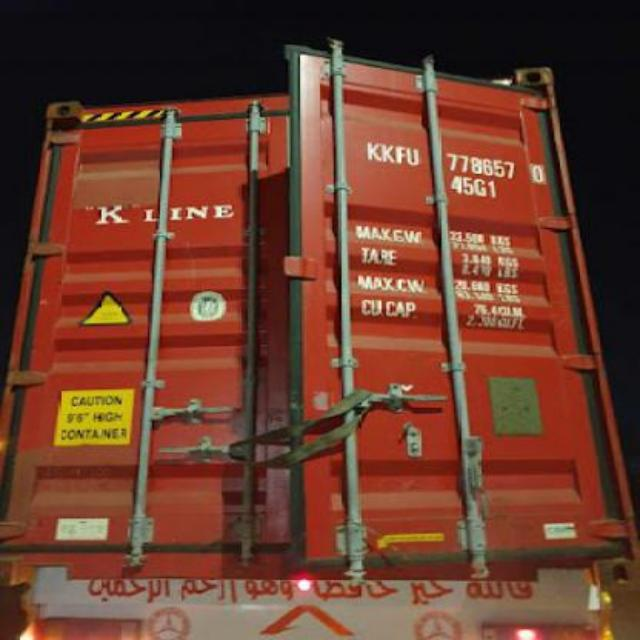0: (530, 166, 550, 182)
5: (494, 157, 506, 175)
6: (481, 156, 494, 174)
7: (502, 156, 518, 180), (444, 148, 456, 172), (458, 148, 468, 172)
8: (468, 152, 482, 174)
F: (396, 144, 408, 168)
K: (378, 142, 398, 166), (366, 140, 382, 164)
U: (406, 146, 422, 166)
